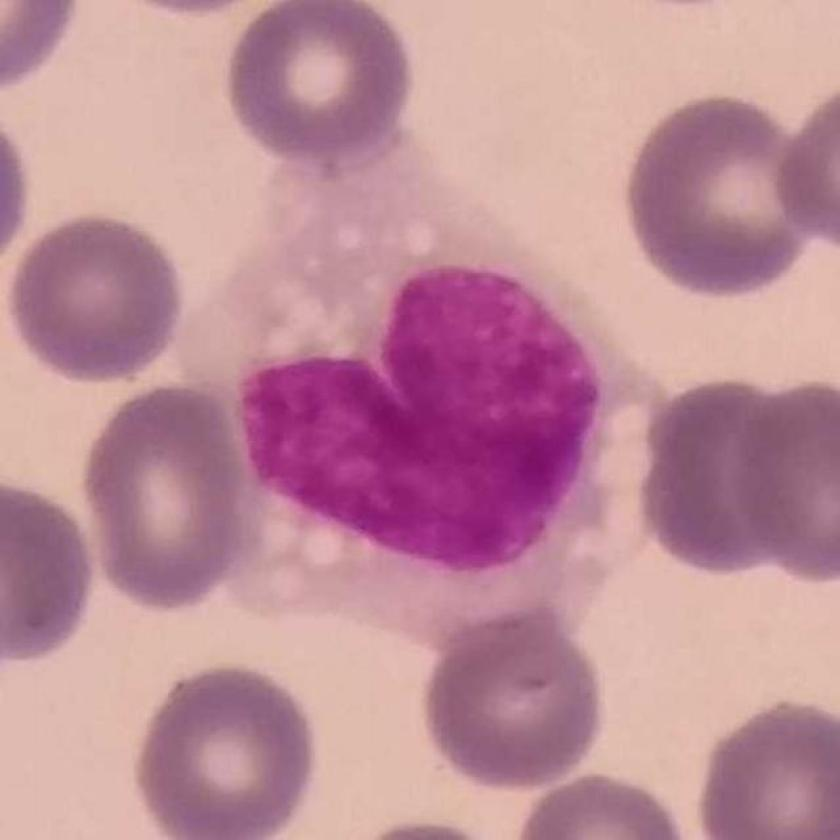monocyte: (174, 126, 676, 663)
